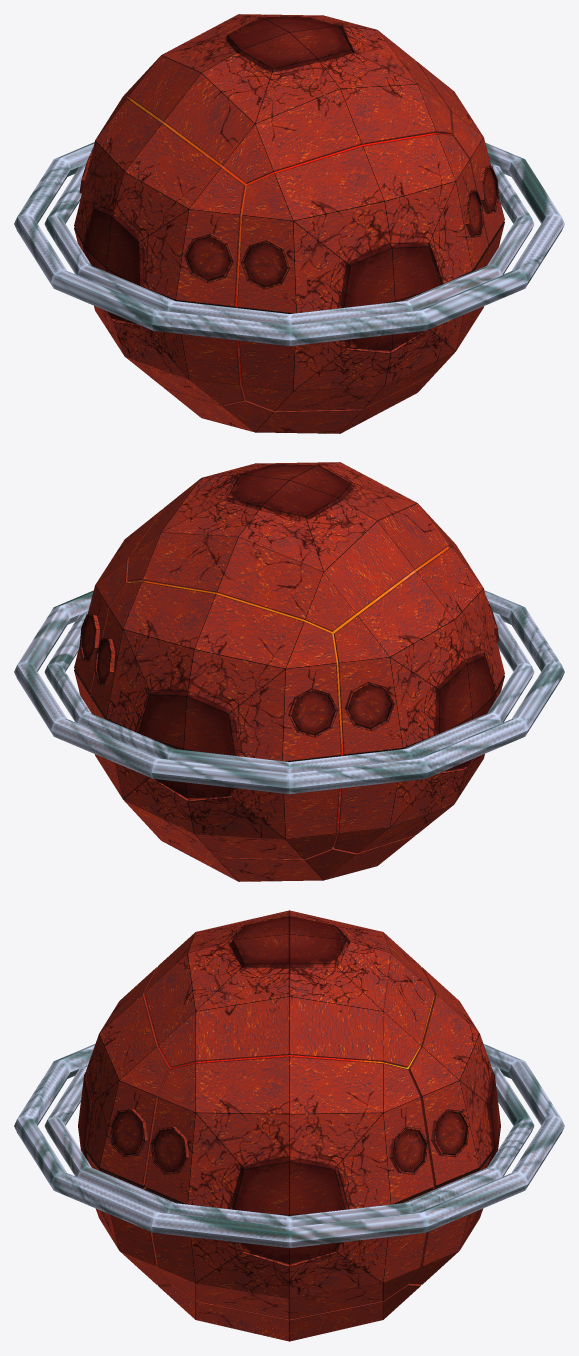
Rendered from UFO_2.fbx.
3 views of the same model, one above another, from view 1: azimuth 30°, elevation 25°; view 2: azimuth 150°, elevation 25°; view 3: azimuth 270°, elevation 25° (orthographic).
Parts seen in each view (by area): view 1: Roundcube; view 2: Roundcube; view 3: Roundcube.
Part boxes in pixels (box(x1,y1,x2,y2)): Roundcube: box(14, 14, 564, 433); Roundcube: box(14, 462, 564, 881); Roundcube: box(14, 910, 564, 1341).
Bounding box in the file's own units: 255 × 196 × 255.
Materials: 1 (1 with a texture image).
